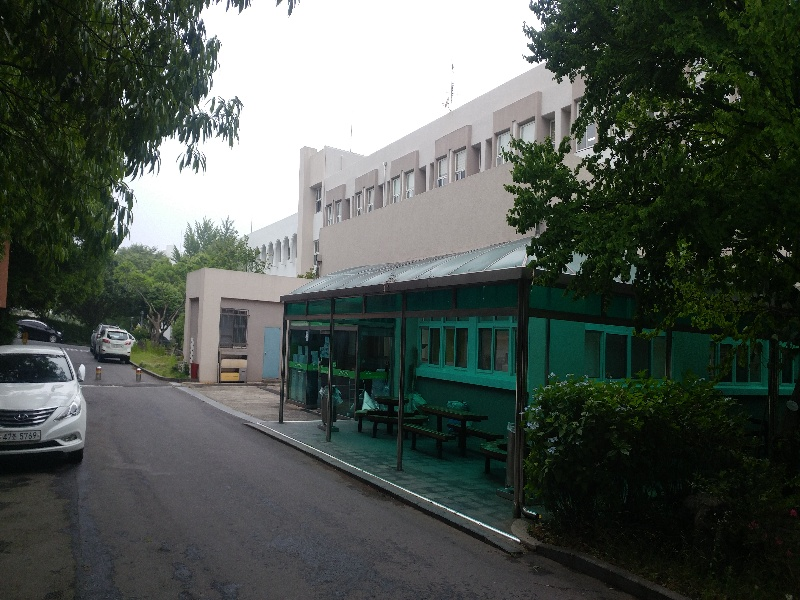Ara Hall: (283, 262, 670, 475)
Main Building: (222, 51, 670, 259)
